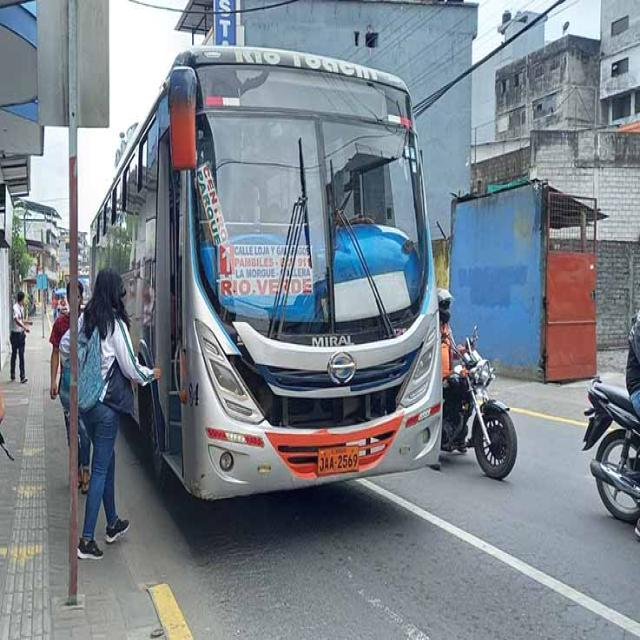BUS: (89, 50, 439, 519)
MOTORCYCLE: (441, 352, 519, 478), (583, 374, 640, 528)
